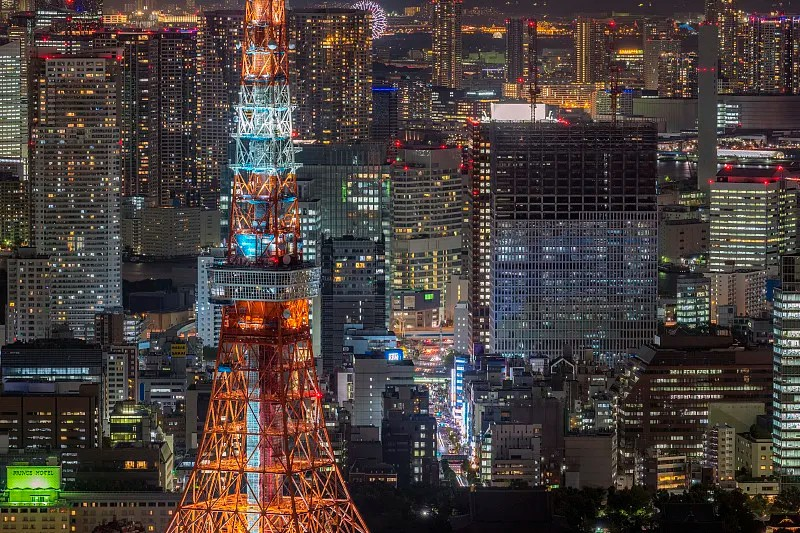Tokyo: (164, 1, 369, 531)
